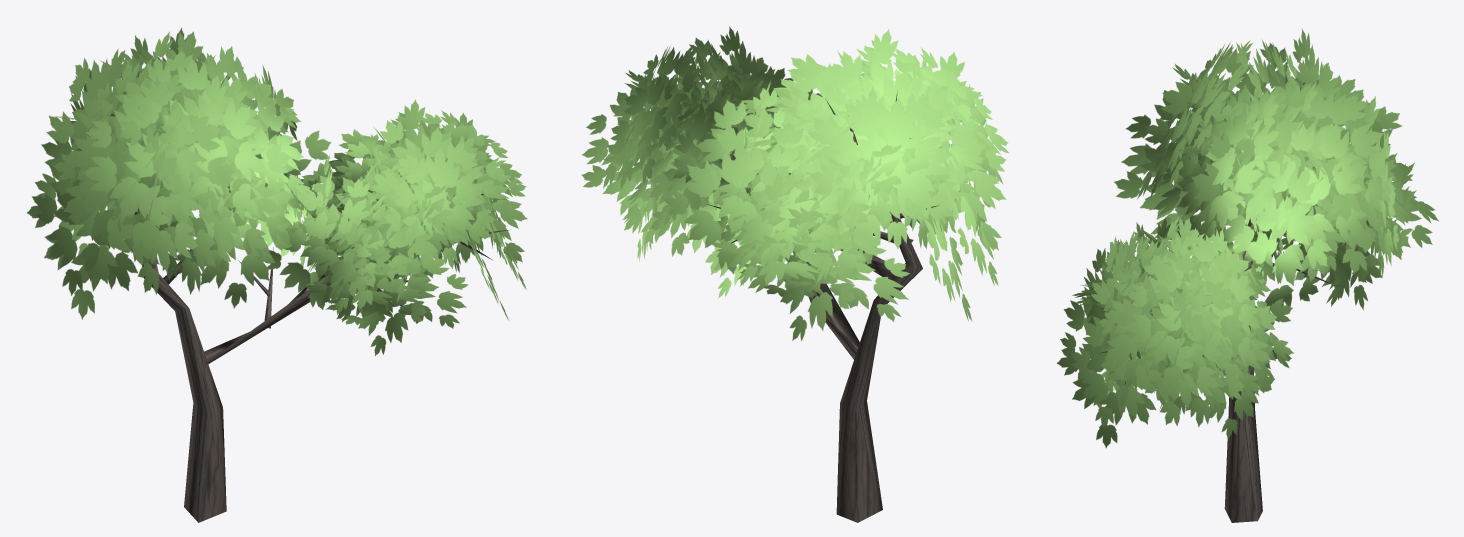
The model's file is street-tree-8-lo.glb.
The picture shows the model from 3 angles, left to right: view 1: azimuth 30°, elevation 25°; view 2: azimuth 150°, elevation 25°; view 3: azimuth 270°, elevation 25°; orthographic projection. The views are drawn at different scales.
Visible parts, largest first — view 1: MapleTree_1; view 2: MapleTree_1; view 3: MapleTree_1.
Part boxes in pixels (<box>): MapleTree_1: <box>27,27,527,522</box>; MapleTree_1: <box>581,26,1009,522</box>; MapleTree_1: <box>1056,28,1438,522</box>.
Size of the model in its own units: 6.85 by 7.1 by 5.51.
2 materials, 2 textured.
